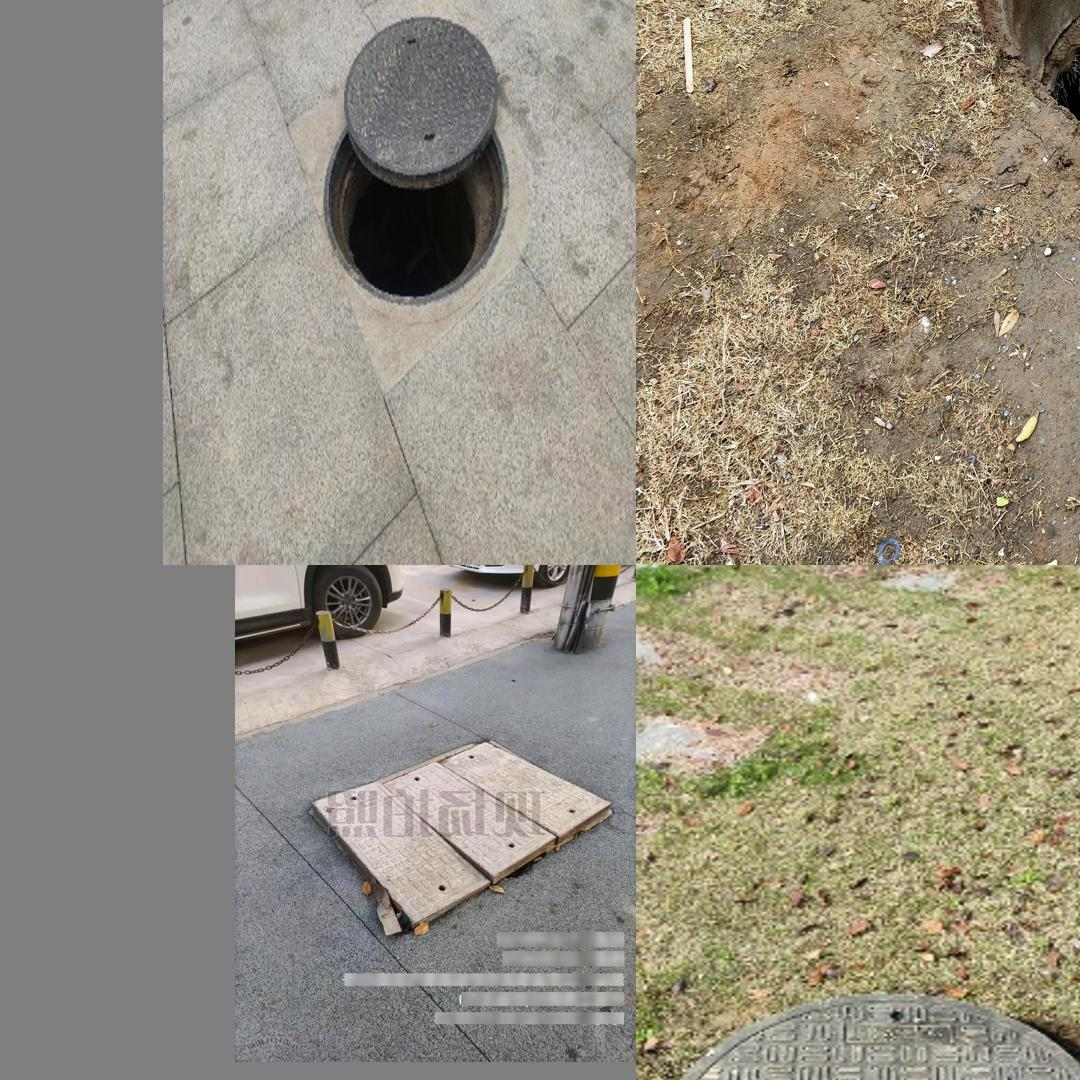uncovered: (311, 737, 611, 926), (322, 15, 508, 304), (982, 0, 1080, 529), (646, 991, 1080, 1080)
